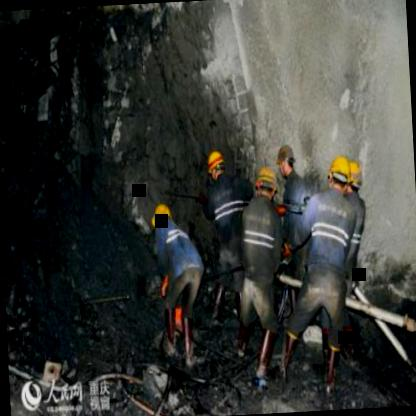helmet: (326, 153, 351, 194), (254, 164, 278, 203), (273, 139, 297, 178), (152, 198, 176, 234), (345, 157, 364, 196), (206, 147, 226, 182)
